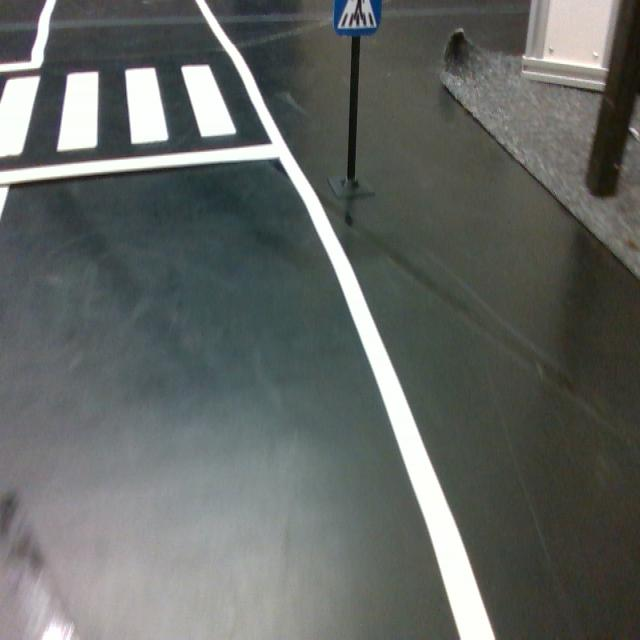crosswalk-sign: (332, 0, 382, 36)
